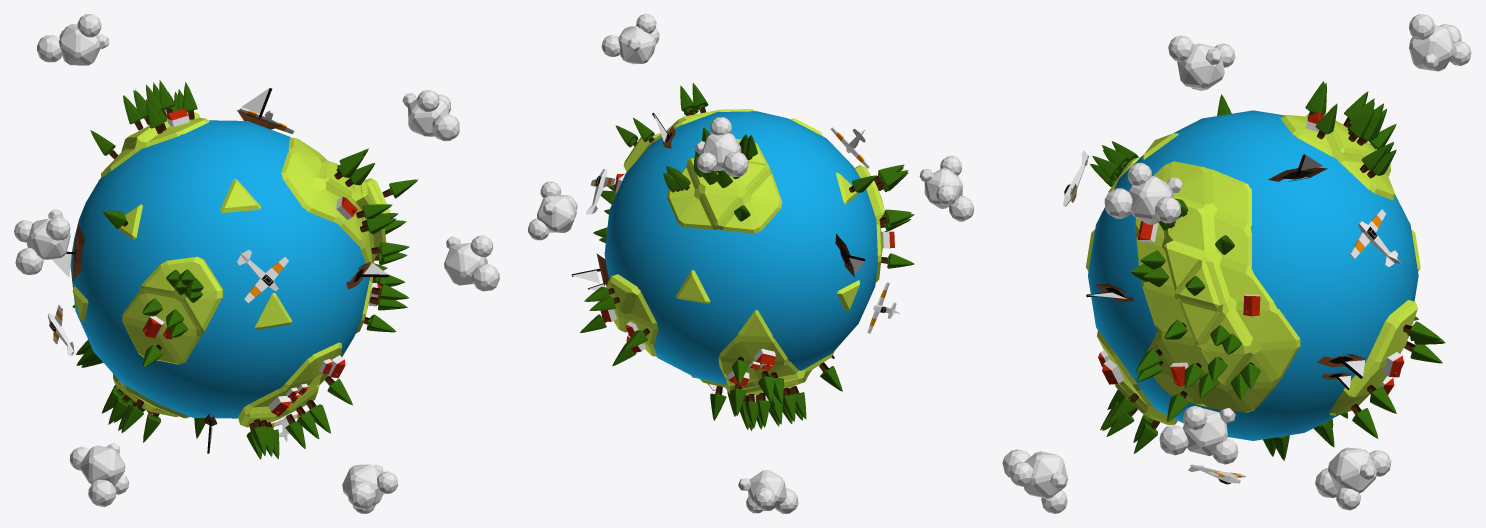
Rendered from Earth_final.fbx.
The picture shows the model from 3 angles, left to right: view 1: azimuth 30°, elevation 25°; view 2: azimuth 150°, elevation 25°; view 3: azimuth 270°, elevation 25°; orthographic projection. The views are drawn at different scales.
Parts seen in each view (by area): view 1: woda, ziemia, Icosphere, Icosphere.002, Icosphere.001, Icosphere.003, Icosphere.004, Icosphere.005, Plane.106, Plane.090, Plane.091, Plane.104; view 2: woda, ziemia, Icosphere.001, Icosphere, Icosphere.004, Icosphere.003, Icosphere.002; view 3: woda, ziemia, Icosphere.004, Icosphere.003, Icosphere.002, Icosphere.005, Icosphere.001, Icosphere, Plane.105, Plane.091, Plane.092.
Part boxes in pixels (x1,y1,x2,y2): woda: (70,120,369,418); ziemia: (72,112,390,427); Icosphere: (14,209,70,275); Icosphere.002: (70,443,128,507); Icosphere.001: (37,14,109,65); Icosphere.003: (444,235,499,291); Icosphere.004: (402,90,459,141); Icosphere.005: (342,464,397,513); Plane.106: (237,250,288,303); Plane.090: (52,224,85,282); Plane.091: (237,88,282,129); Plane.104: (48,304,74,355); woda: (604,111,877,384); ziemia: (606,109,884,395); Icosphere.001: (695,117,748,176); Icosphere: (919,155,973,221); Icosphere.004: (601,14,659,64); Icosphere.003: (528,181,577,240); Icosphere.002: (738,470,798,513); woda: (1088,110,1418,440); ziemia: (1086,113,1420,424); Icosphere.004: (1104,162,1182,224); Icosphere.003: (1159,406,1238,464); Icosphere.002: (1315,447,1391,510); Icosphere.005: (1002,449,1068,513); Icosphere.001: (1409,14,1471,71); Icosphere: (1168,35,1235,90); Plane.105: (1350,209,1400,267); Plane.091: (1268,154,1327,181); Plane.092: (1317,354,1366,378).
Bounding box in the file's own units: 6.56 × 6.03 × 5.16.
